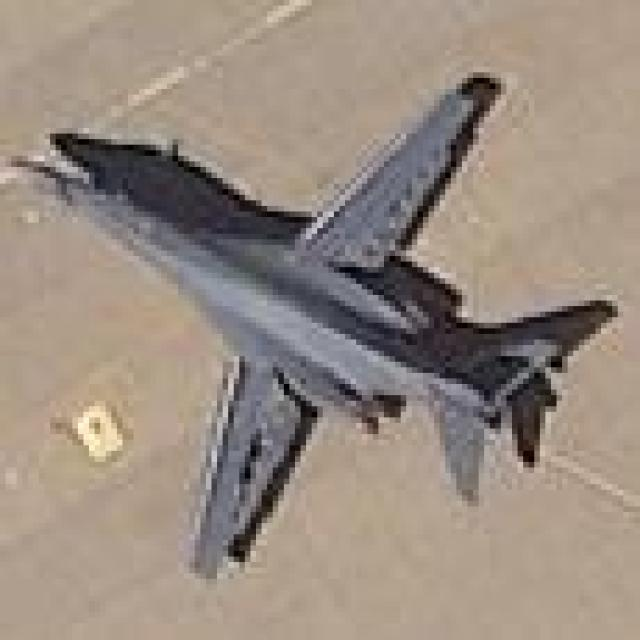B-1_TopDown: (0, 61, 623, 578)
